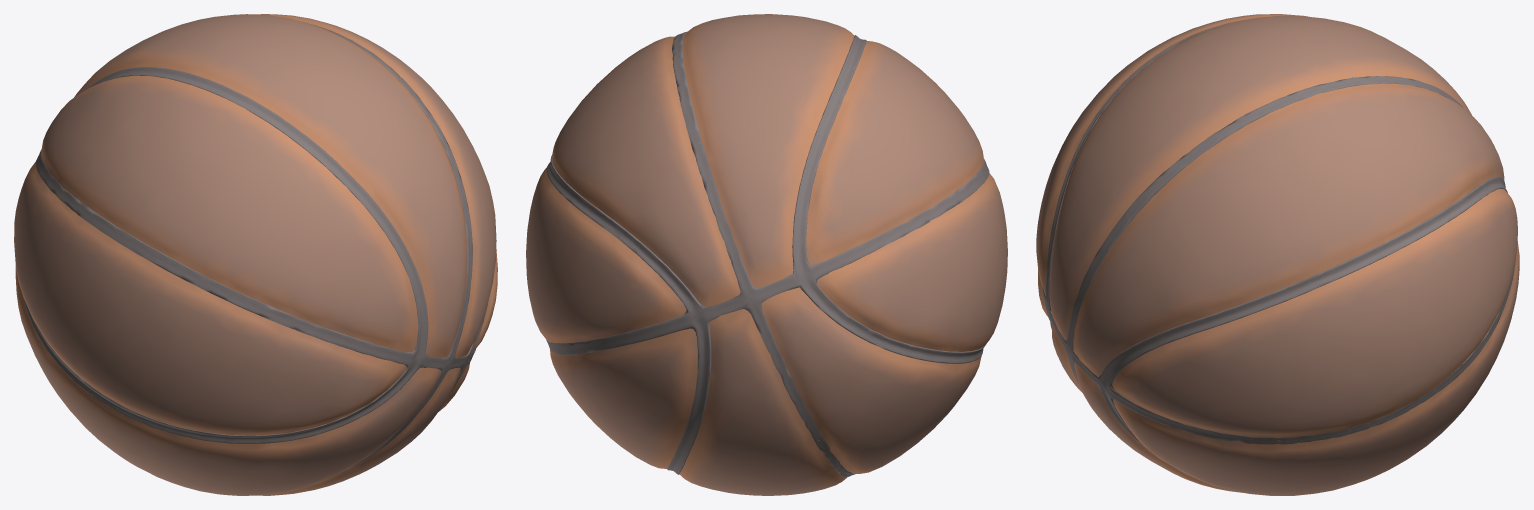
Rendered from basketball.fbx.
3 renders of one model, left to right at view 1: azimuth 30°, elevation 25°; view 2: azimuth 150°, elevation 25°; view 3: azimuth 270°, elevation 25°, orthographic.
Visible parts, largest first — view 1: Object_3, Object_2; view 2: Object_3, Object_2; view 3: Object_3, Object_2.
Boxes of the visible parts, x1,y1,x2,y2 form: Object_3: [14, 14, 497, 495]; Object_2: [23, 22, 488, 475]; Object_3: [526, 14, 1007, 495]; Object_2: [546, 32, 989, 477]; Object_3: [1036, 14, 1519, 495]; Object_2: [1041, 20, 1515, 445].
Bounding box in the file's own units: 200 × 200 × 200.
